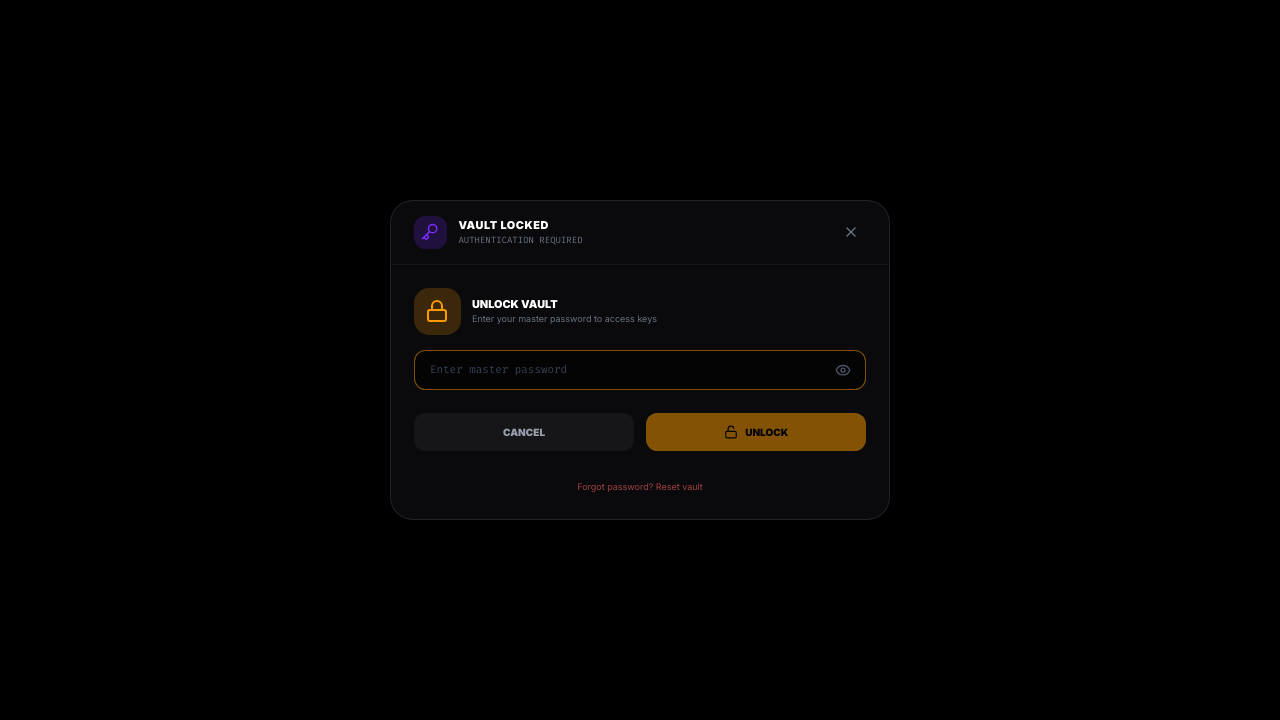
Test: ApiKeyModal › shows error on invalid master password
Type "wrongpassword" into the password field labelled "master password".
click(640, 370); type("wrongpassword")  # box [414, 350, 866, 390]
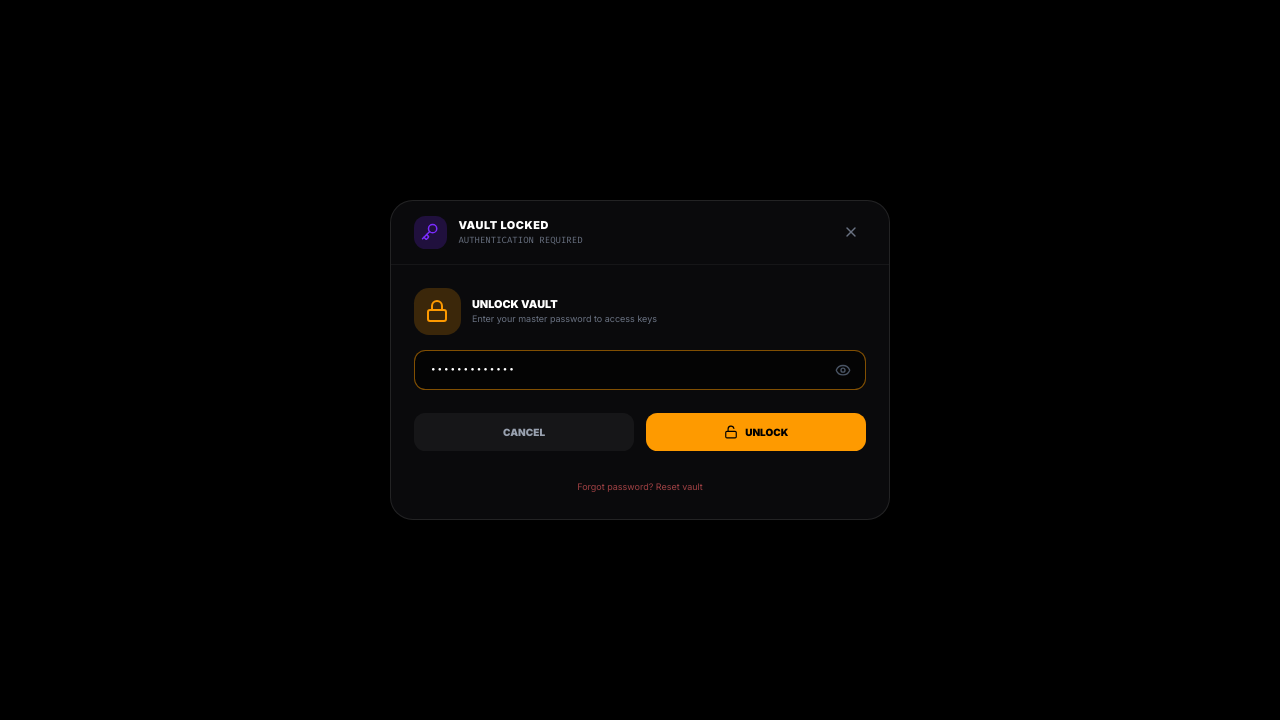
Click the button "Unlock".
click(756, 432)  # box [646, 413, 866, 451]
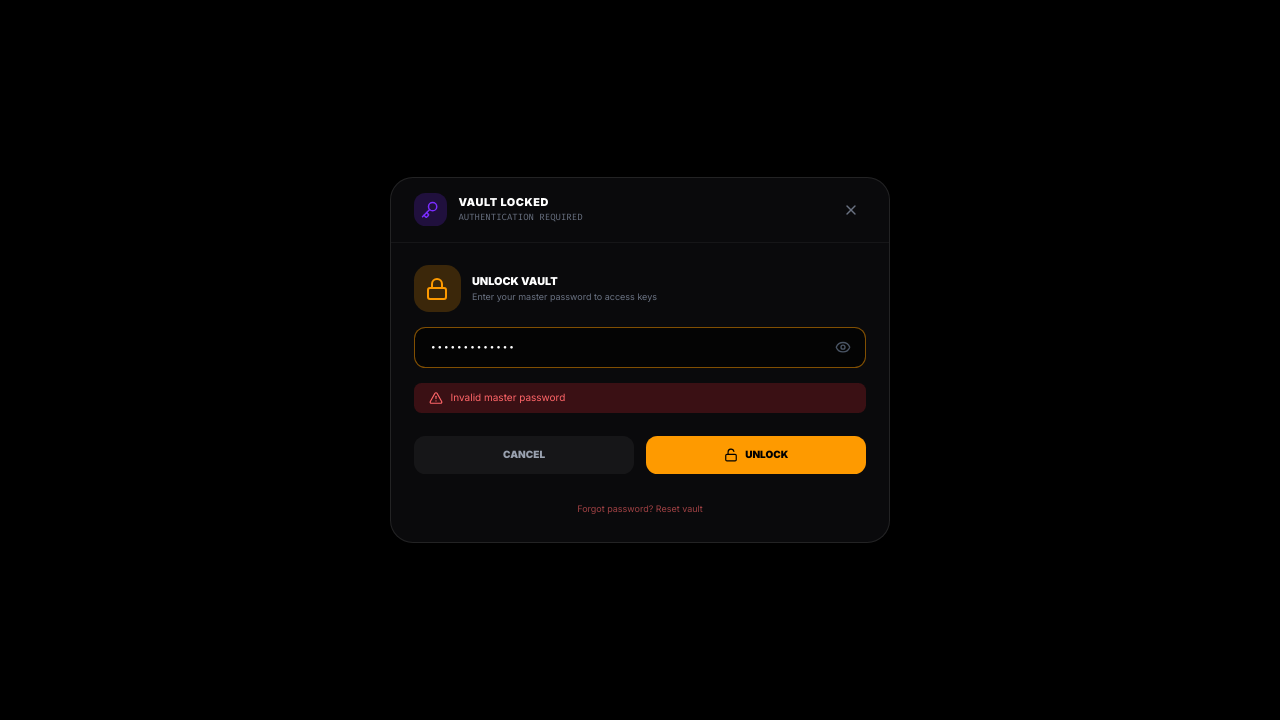
Check: the text "Invalid master password" is shown, box [414, 383, 866, 413]
